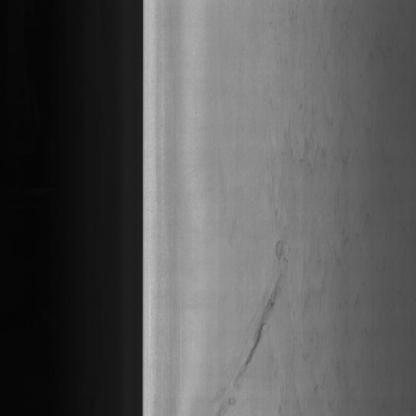silk_spot: (301, 25, 397, 382)
water_spot: (214, 223, 296, 415)
